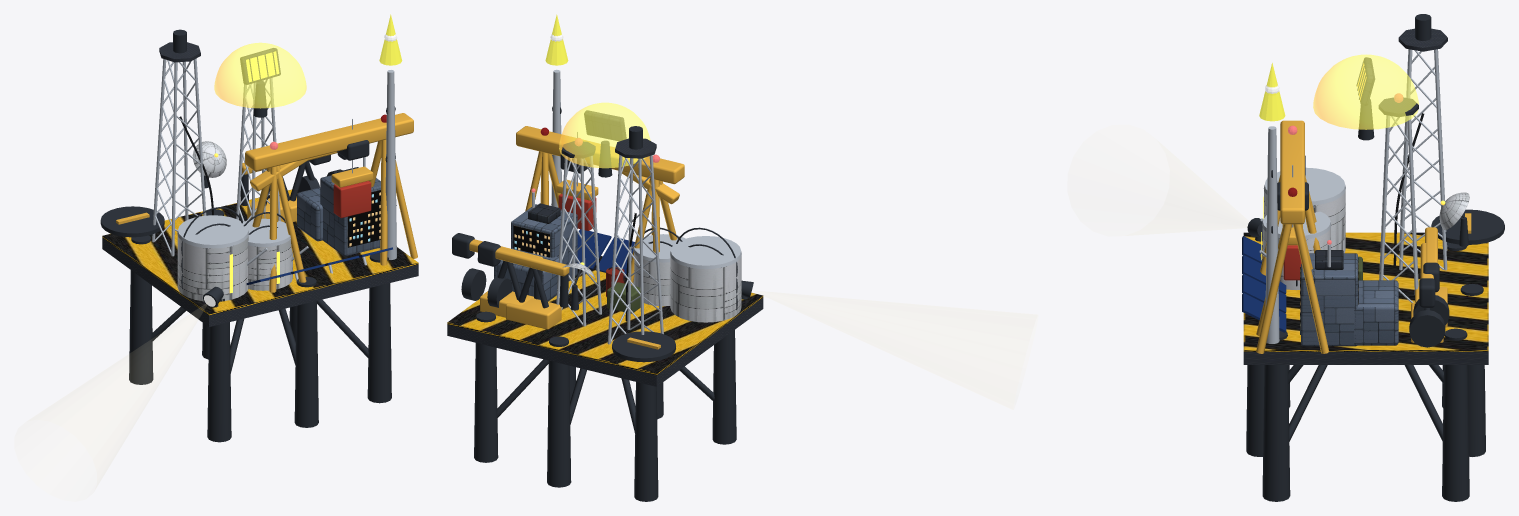
Rendered from platform.glb.
The picture shows the model from 3 angles, left to right: view 1: azimuth 30°, elevation 25°; view 2: azimuth 150°, elevation 25°; view 3: azimuth 270°, elevation 25°; orthographic projection. The views are drawn at different scales.
Visible parts, largest first — view 1: object 14, object 189, object 13, object 140, object 162, object 11, object 7, object 5, object 1, anim:trolley, anim:rot (×2), object 141 (+15 smaller); view 2: object 14, object 140, object 13, object 189, object 9, object 3, object 1, object 5, anim:swing (×2), object 162, object 141, object 169 (+13 smaller); view 3: object 14, object 189, object 169, object 3, object 7, object 13, object 167, object 162, object 135, object 9, object 11, anim:swing (×2) (+20 smaller).
Boxes of the visible parts, box(x1,y1,x2,y2) form: object 14: box(102, 189, 418, 315); object 189: box(214, 42, 306, 108); object 13: box(102, 237, 418, 326); object 140: box(177, 235, 248, 301); object 162: box(245, 113, 413, 171); object 11: box(294, 276, 318, 427); object 7: box(367, 253, 391, 403); object 5: box(207, 298, 231, 442); object 1: box(129, 235, 153, 384); anim:trolley: box(331, 119, 373, 218); anim:rot (×2): box(192, 48, 280, 177); object 141: box(177, 215, 248, 248); object 14: box(447, 256, 763, 375); object 140: box(670, 255, 741, 322); object 13: box(447, 297, 763, 386); object 189: box(559, 102, 650, 168); object 9: box(547, 336, 571, 487); object 3: box(474, 311, 498, 462); object 1: box(634, 382, 658, 501); object 5: box(712, 330, 736, 444); anim:swing (×2): box(452, 233, 569, 307); object 162: box(516, 126, 684, 184); object 141: box(670, 236, 741, 269); object 169: box(511, 204, 577, 280); object 14: box(1243, 232, 1488, 351); object 189: box(1313, 54, 1418, 129); object 169: box(1301, 253, 1357, 346); object 3: box(1442, 328, 1469, 501); object 7: box(1262, 330, 1290, 501); object 13: box(1243, 351, 1488, 364); object 167: box(1354, 280, 1398, 345); object 162: box(1280, 120, 1304, 224); object 135: box(1265, 126, 1279, 343); object 9: box(1460, 284, 1485, 456); object 11: box(1246, 365, 1264, 456); anim:swing (×2): box(1419, 227, 1439, 307).
Size of the model in its own units: 7.43 by 5.94 by 5.36.
Materials: 24 (6 with a texture image).
